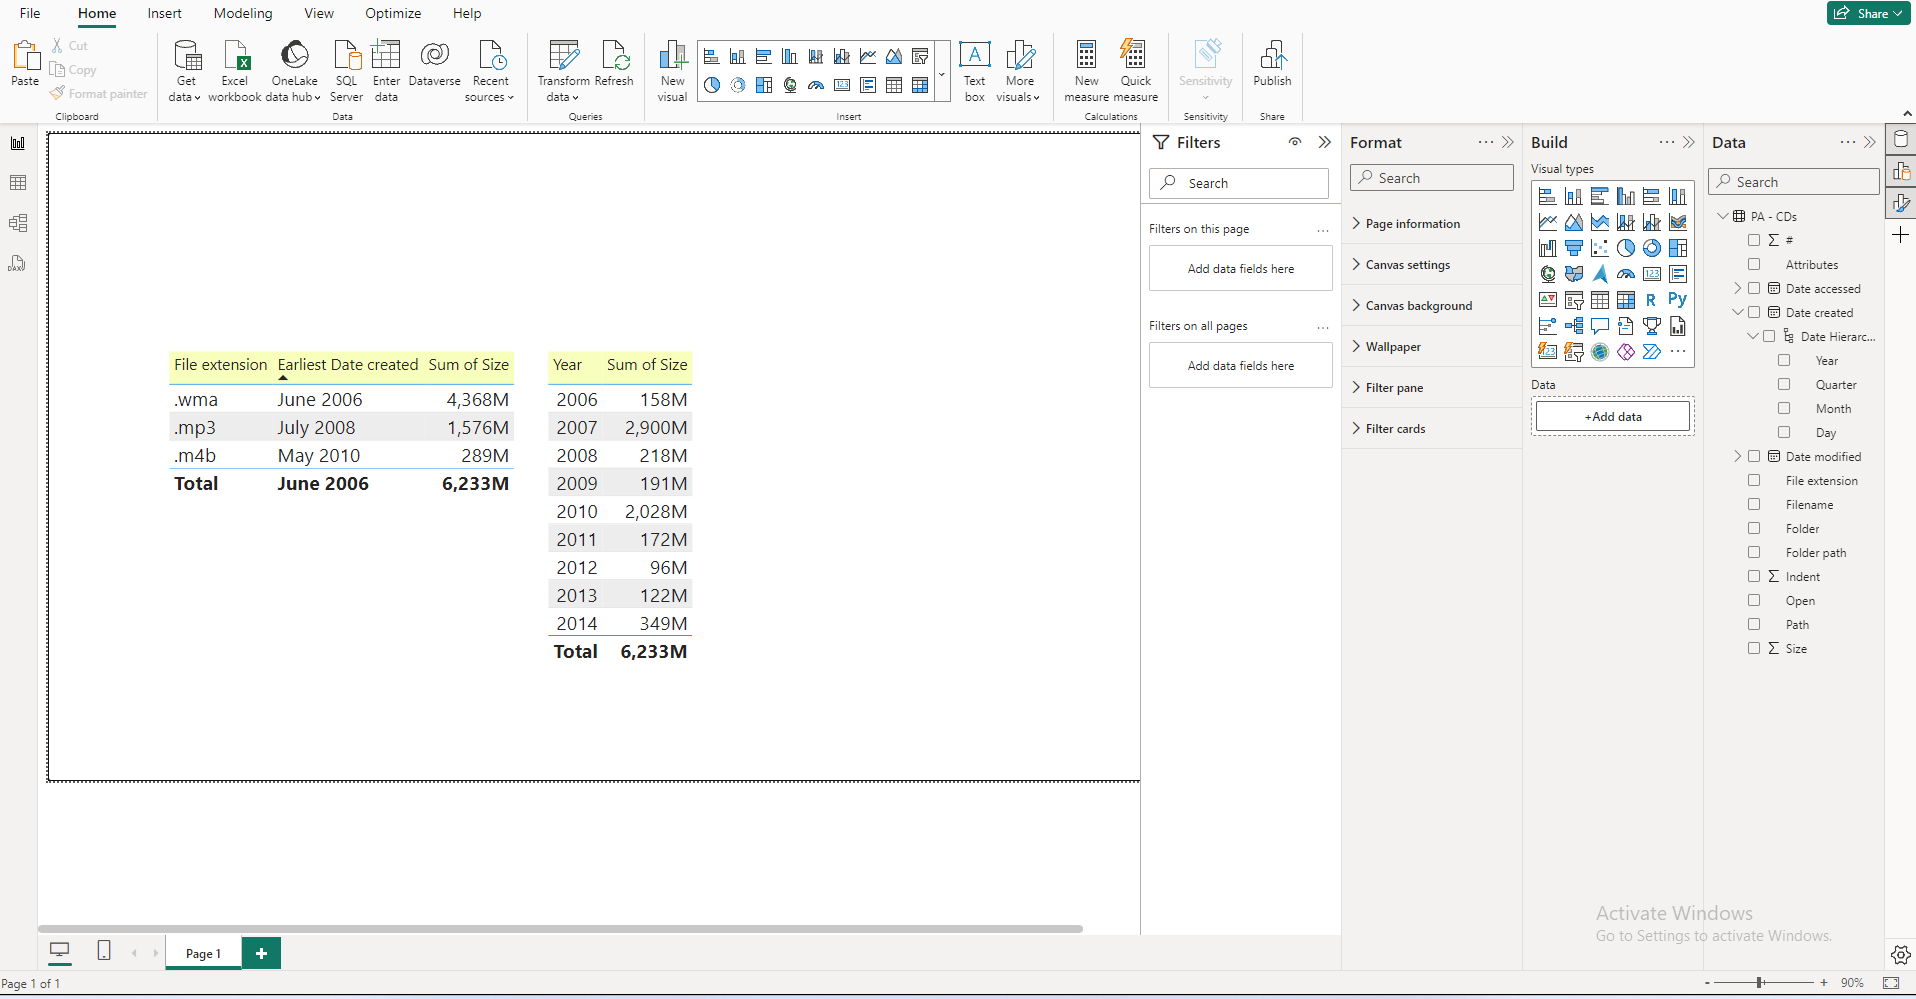

This screenshot's page, from the dashboard's own definition file:
{"tool":"powerbi","page":{"name":"Page 1","canvas":[1280,720],"ordinal":0},"visuals":[{"type":"tableEx","fields":{"Values":["PA - CDs.File extension","PA - CDs.Date created","Sum(PA - CDs.Size)"]},"box":[128.9,237.8,401.1,173.3],"z":0},{"type":"tableEx","fields":{"Values":["PA - CDs.Date created.Variation.Date Hierarchy.Year","Sum(PA - CDs.Size)"]},"box":[550,237.8,180,356.7],"z":1}]}

Visuals, with their boxes on the page's 1280x720 design canvas (x1, y1, x2, y2). These are canvas units, not pixel positions in the 1916x999 screenshot, which may show the page scaled, cropped or inside an application window:
tableEx - PA - CDs.File extension x PA - CDs.Date created: box(129, 238, 530, 411)
tableEx - PA - CDs.Date created.Variation.Date Hierarchy.Year x Sum(PA - CDs.Size): box(550, 238, 730, 594)
